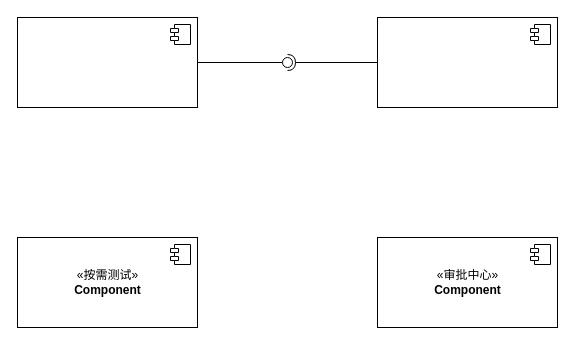
Image size: 575x345. Some labels were removed from this diagram. The centre of each missing label's shape, as x and y in pixels:
"«按需集成» Component" belongs at (467,62).
"«需求评审» Component" belongs at (107,62).
